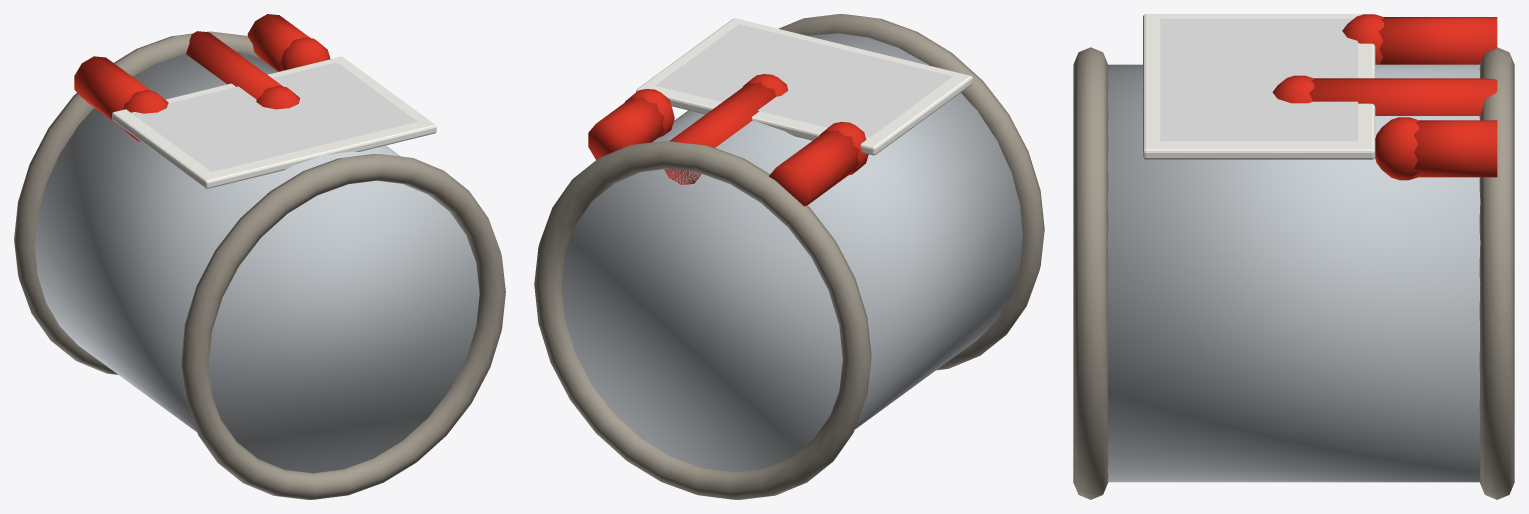
The model's file is kc_tinta.glb.
3 renders of one model, left to right at view 1: azimuth 30°, elevation 25°; view 2: azimuth 150°, elevation 25°; view 3: azimuth 270°, elevation 25°, orthographic. The views are drawn at different scales.
Parts seen in each view (by area): view 1: Cylinder, Torus.009, screen, Torus.008, Cube, Cylinder.002, Cylinder.001, Cylinder.003, Sphere.002, Sphere, Sphere.001; view 2: Cylinder, Torus.008, screen, Torus.009, Cube, Cylinder.001, Cylinder.002, Cylinder.003, Sphere.002, Sphere; view 3: Cylinder, screen, Torus.009, Torus.008, Cube, Cylinder.002, Cylinder.001, Cylinder.003, Sphere.002, Sphere, Sphere.001.
Boxes of the visible parts, left/top/right/bottom form: Cylinder: left=35, top=52, right=479, bottom=473; Torus.009: left=181, top=154, right=505, bottom=499; screen: left=131, top=62, right=417, bottom=171; Torus.008: left=14, top=31, right=259, bottom=374; Cube: left=112, top=56, right=436, bottom=188; Cylinder.002: left=186, top=31, right=282, bottom=99; Cylinder.001: left=74, top=56, right=151, bottom=128; Cylinder.003: left=247, top=14, right=310, bottom=71; Sphere.002: left=280, top=37, right=330, bottom=70; Sphere: left=123, top=90, right=168, bottom=141; Sphere.001: left=256, top=86, right=299, bottom=109; Cylinder: left=561, top=33, right=1022, bottom=472; Torus.008: left=534, top=140, right=871, bottom=499; screen: left=655, top=24, right=952, bottom=137; Torus.009: left=779, top=14, right=1044, bottom=370; Cube: left=636, top=18, right=972, bottom=155; Cylinder.001: left=769, top=130, right=859, bottom=206; Cylinder.002: left=664, top=82, right=776, bottom=184; Cylinder.003: left=588, top=97, right=664, bottom=159; Sphere.002: left=625, top=89, right=674, bottom=137; Sphere: left=819, top=122, right=868, bottom=174; Cylinder: left=1107, top=64, right=1480, bottom=482; screen: left=1160, top=18, right=1357, bottom=141; Torus.009: left=1073, top=47, right=1108, bottom=499; Torus.008: left=1479, top=47, right=1514, bottom=499; Cube: left=1143, top=14, right=1375, bottom=159; Cylinder.002: left=1309, top=78, right=1497, bottom=115; Cylinder.001: left=1378, top=17, right=1497, bottom=64; Cylinder.003: left=1413, top=120, right=1497, bottom=177; Sphere.002: left=1375, top=117, right=1418, bottom=180; Sphere: left=1342, top=14, right=1383, bottom=64; Sphere.001: left=1272, top=75, right=1314, bottom=103.
Bounding box in the file's own units: 0.78 × 0.785 × 0.76.
